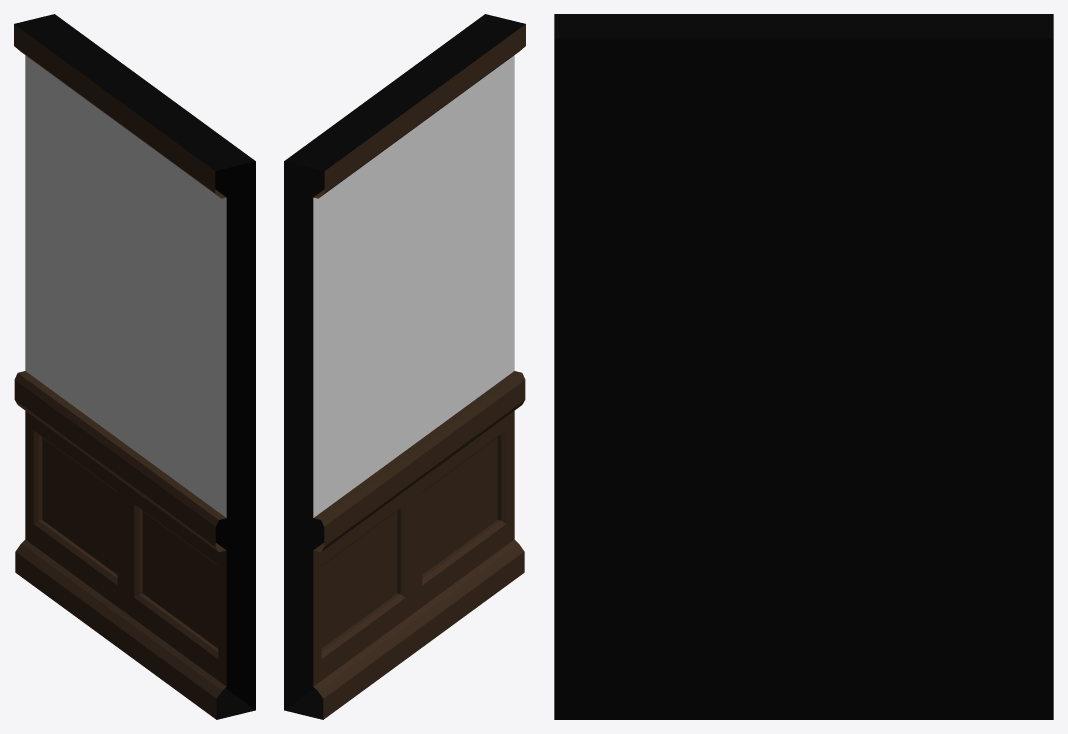
File: WallGhost_ 1.fbx
3 views of the same model, side by side, from view 1: azimuth 30°, elevation 25°; view 2: azimuth 150°, elevation 25°; view 3: azimuth 270°, elevation 25° (orthographic). The views are drawn at different scales.
Visible parts, largest first — view 1: Cube.213; view 2: Cube.213; view 3: Cube.213.
Part boxes in pixels (<box>): Cube.213: <box>14,14,255,719</box>; Cube.213: <box>284,14,525,719</box>; Cube.213: <box>554,14,1053,719</box>.
Size of the model in its own units: 2 by 0.2334 by 3.01.
